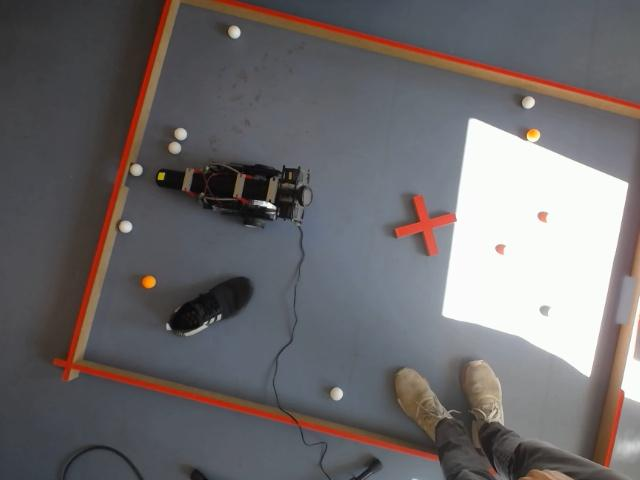orange: (525, 128, 541, 143), (141, 274, 157, 289)
robot: (155, 163, 313, 226)
robot-front: (156, 170, 181, 189)
white: (167, 140, 183, 155), (118, 218, 133, 234), (173, 127, 189, 141), (227, 24, 241, 39), (522, 94, 535, 110), (330, 386, 343, 402), (130, 164, 144, 177)
